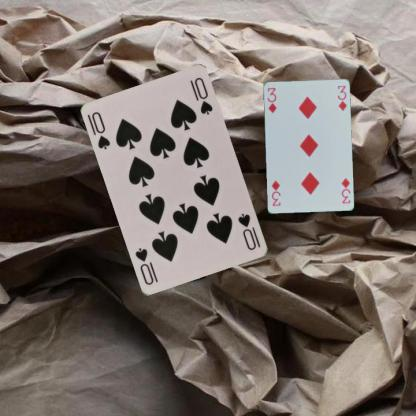10s: (236, 211, 262, 252), (89, 109, 112, 151)
3d: (265, 85, 278, 114), (339, 175, 351, 204)
